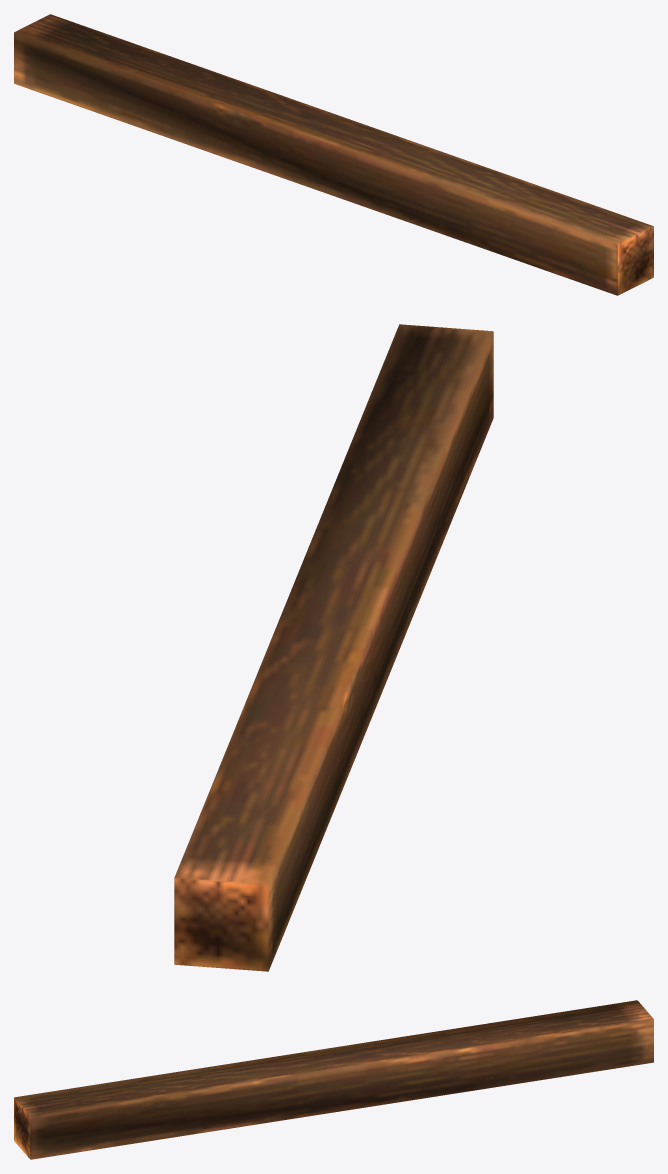
The model's file is SWORDLIGHT20_JAILBRACE102.fbx.
The picture shows the model from 3 angles, top to bottom: view 1: azimuth 30°, elevation 25°; view 2: azimuth 150°, elevation 25°; view 3: azimuth 270°, elevation 25°; orthographic projection. The views are drawn at different scales.
Parts seen in each view (by area): view 1: SWORDLIGHT20_JAILBRACE102; view 2: SWORDLIGHT20_JAILBRACE102; view 3: SWORDLIGHT20_JAILBRACE102.
Boxes of the visible parts, x1,y1,x2,y2 form: SWORDLIGHT20_JAILBRACE102: (14, 14, 653, 295); SWORDLIGHT20_JAILBRACE102: (174, 324, 493, 971); SWORDLIGHT20_JAILBRACE102: (14, 1000, 653, 1159).
Bounding box in the file's own units: 22973 × 4000 × 53456.
1 material, 1 textured.
